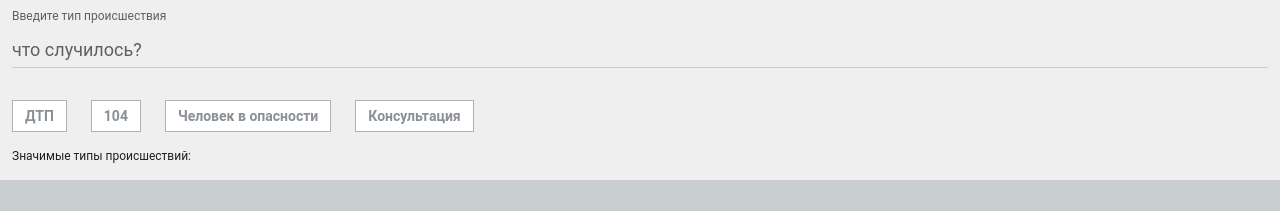
Test: TypeTabs: тип происшествия и вкладки › «×» удаляет вкладку и шлёт typeRemoved {index}; удаление первой пересчитывает по следующей
In the dropdown: coordinates (640, 50) [12,32,1268,68], type "пожар"
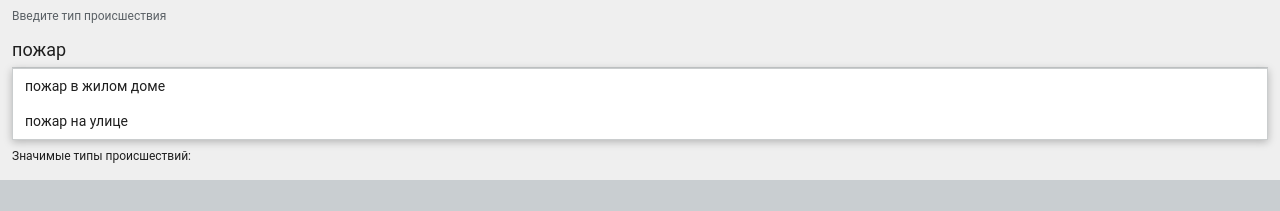
Press the mouse on the button "пожар в жилом доме": coordinates (95, 86) [13,69,1267,104]
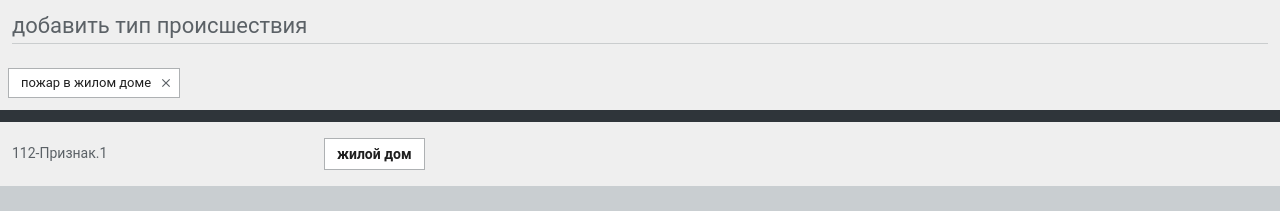
In the dropdown: coordinates (640, 26) [12,8,1268,44], type "улице"
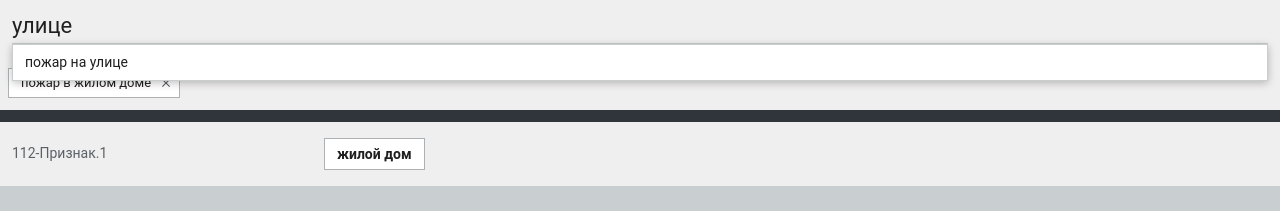
Press the mouse on the button "пожар на улице": coordinates (76, 62) [13,45,1267,80]
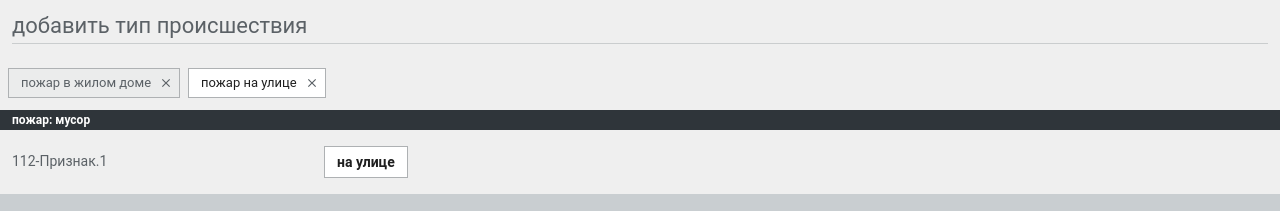
Click the button named "Удалить тип «пожар в жилом доме»": coordinates (166, 83) [157,74,175,92]
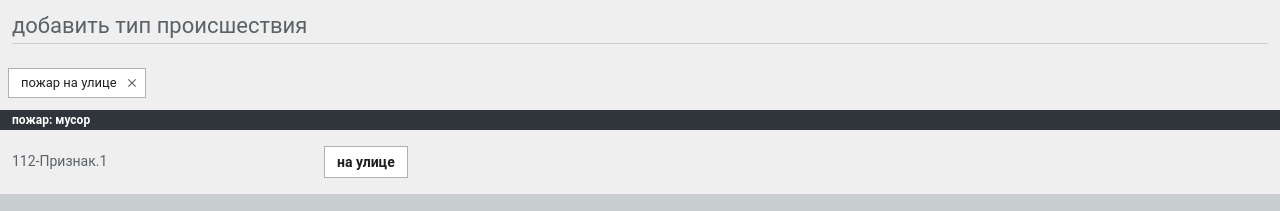
Check: the tab "пожар в жилом доме" is gone
Click the button named "Удалить тип «пожар на улице»": coordinates (132, 83) [123,74,141,92]
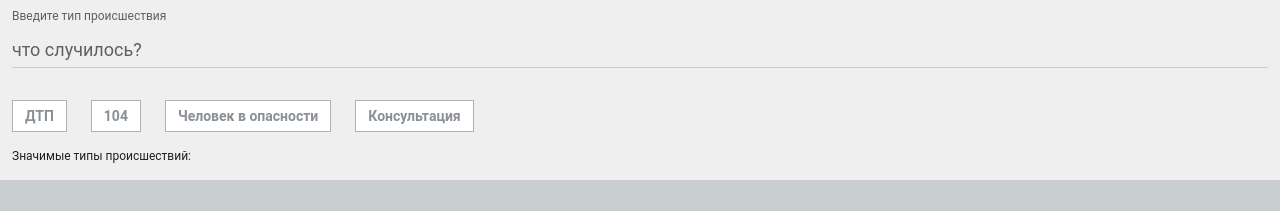
Check: the tab is gone
Check: the text "Значимые типы происшествий:" is shown, box [12,149,191,163]
